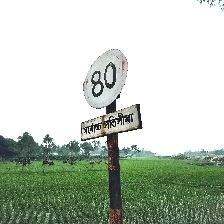Speed-limit: (80, 48, 140, 141)
